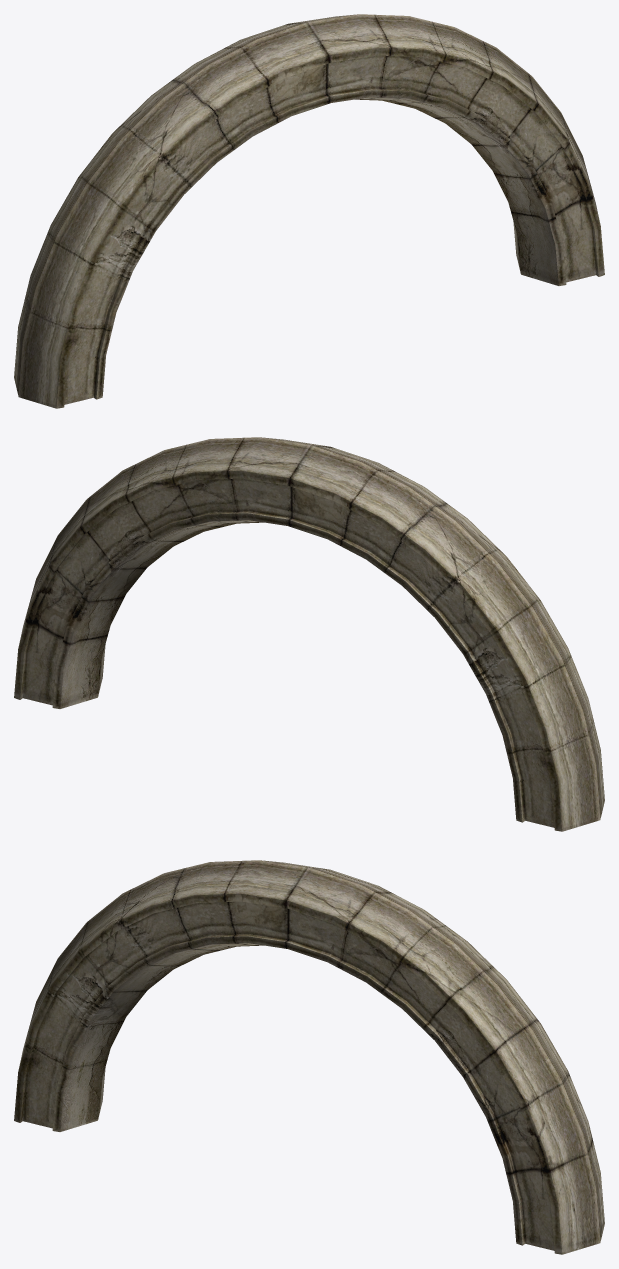
Rendered from SM_Plains_CastleArch_Ruin_01.fbx.
3 views of the same model, one above another, from view 1: azimuth 30°, elevation 25°; view 2: azimuth 150°, elevation 25°; view 3: azimuth 330°, elevation 25° (orthographic).
Parts seen in each view (by area): view 1: SM_Plains_CastleArch_Ruin_01; view 2: SM_Plains_CastleArch_Ruin_01; view 3: SM_Plains_CastleArch_Ruin_01.
Part boxes in pixels (<box>): SM_Plains_CastleArch_Ruin_01: <box>14,14,604,408</box>; SM_Plains_CastleArch_Ruin_01: <box>14,437,604,831</box>; SM_Plains_CastleArch_Ruin_01: <box>14,860,604,1254</box>.
Size of the model in its own units: 348 by 174 by 45.49.
